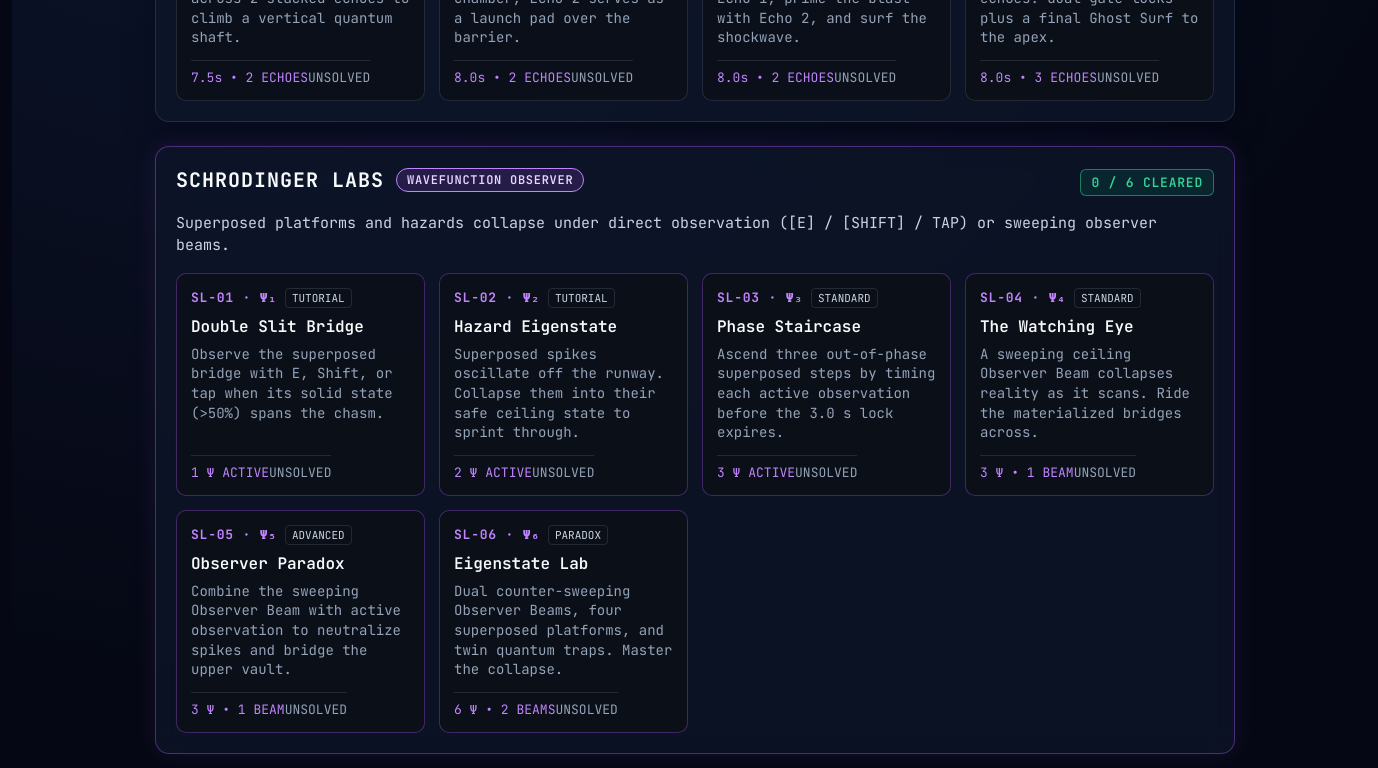
QuantumModesHub component › loads Schrodinger Labs level into sharedLevel and navigates to /game/schrodinger/:id on card click
(page scrolled)
What coordinates should you click on to do the following:
click the button with test id "schrodinger-card-schrodinger-4"
I would click on:
 (1090, 384)
Its box is [965,273,1214,496].
(page scrolled)
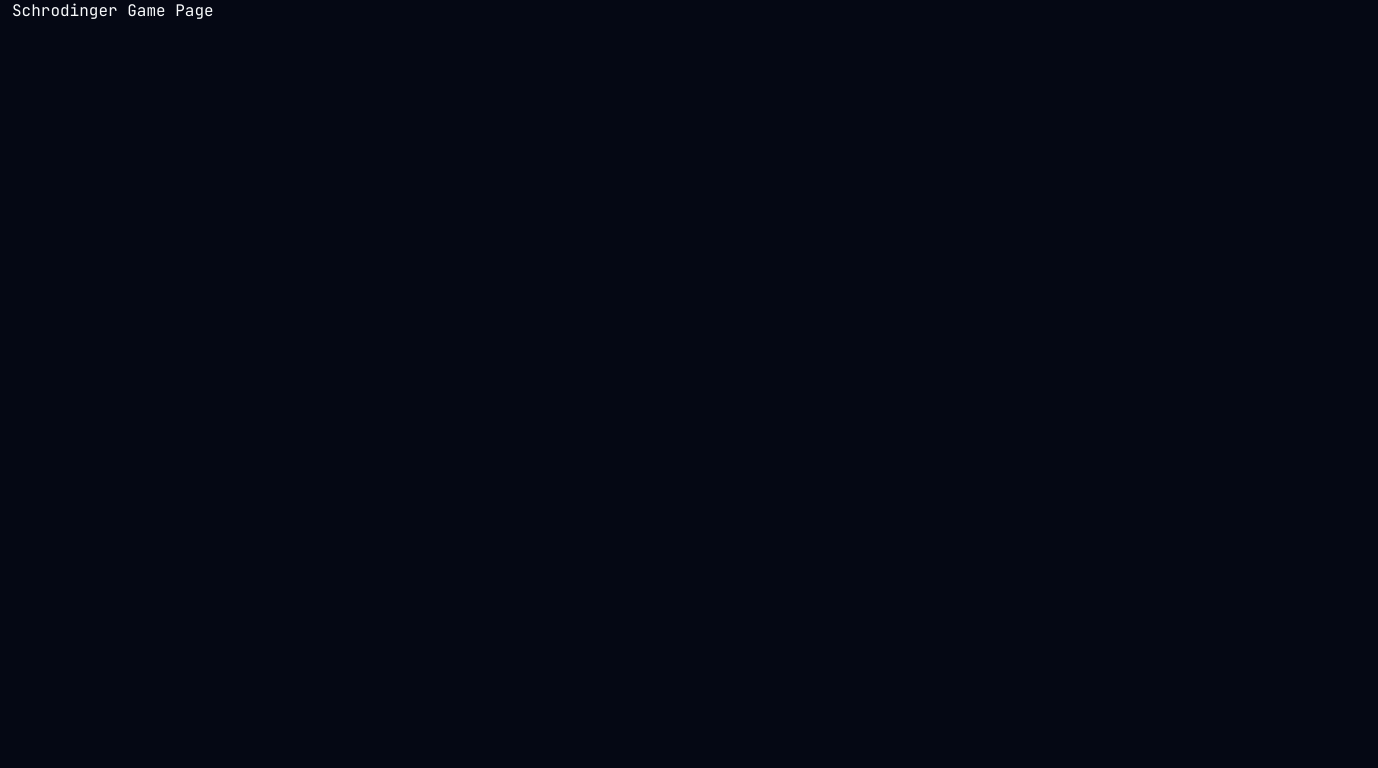
Result: the text "Schrodinger Game Page" is shown at [12,0,214,21]
